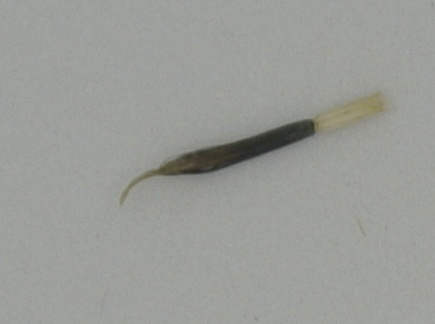เมล้ดปลายพู่กัน: (119, 79, 394, 206)
